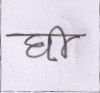i_matra: (53, 25, 71, 58)
